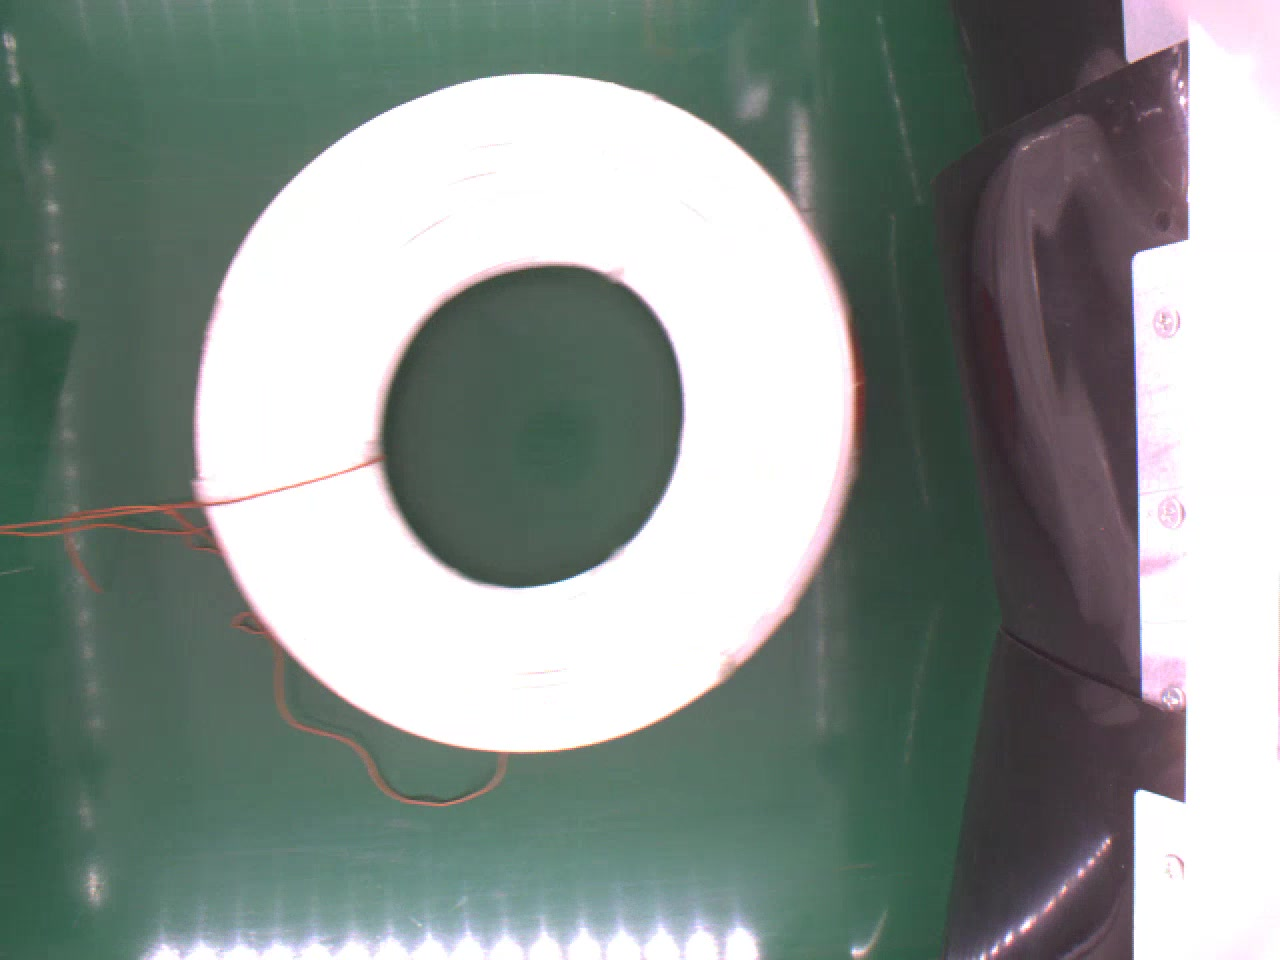white: (191, 72, 873, 752)
